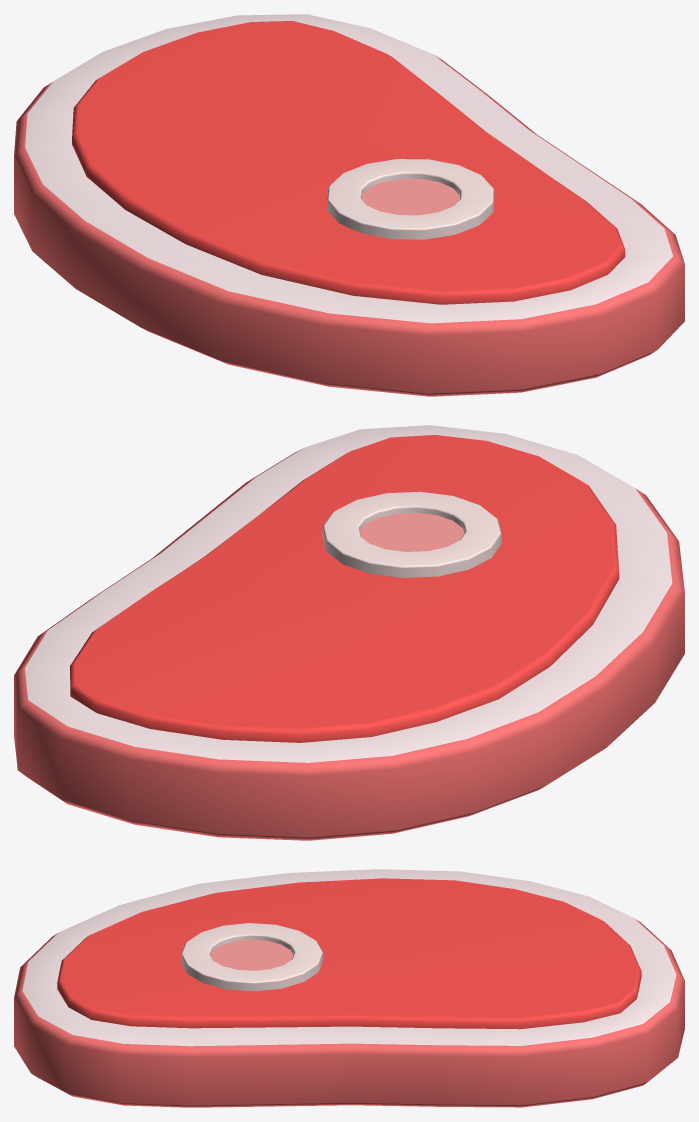
The model's file is steak.glb.
3 renders of one model, top to bottom at view 1: azimuth 30°, elevation 25°; view 2: azimuth 150°, elevation 25°; view 3: azimuth 270°, elevation 25°, orthographic. The views are drawn at different scales.
Visible parts, largest first — view 1: Meat_Steak_1; view 2: Meat_Steak_1; view 3: Meat_Steak_1.
Part boxes in pixels (<box>): Meat_Steak_1: <box>14,14,684,396</box>; Meat_Steak_1: <box>14,425,684,840</box>; Meat_Steak_1: <box>14,869,684,1107</box>.
Size of the model in its own units: 0.2462 by 0.0617 by 0.3768.
1 material, 1 textured.
